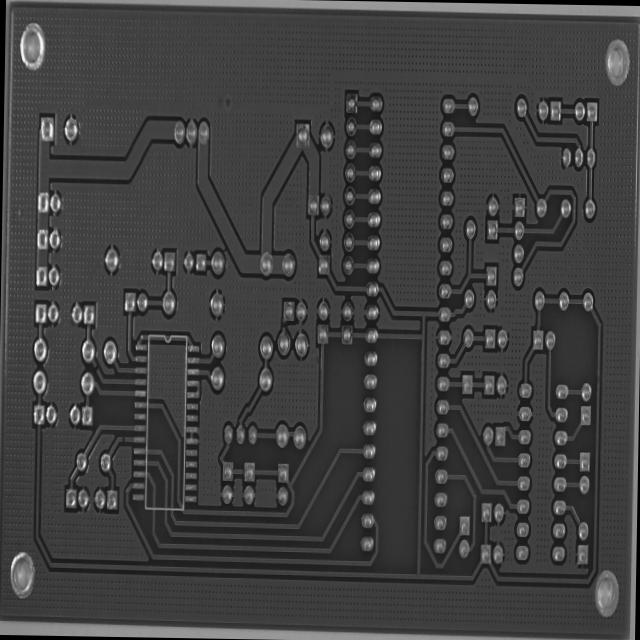open_circuit: (92, 360, 99, 373), (280, 318, 287, 331), (120, 433, 126, 444)
